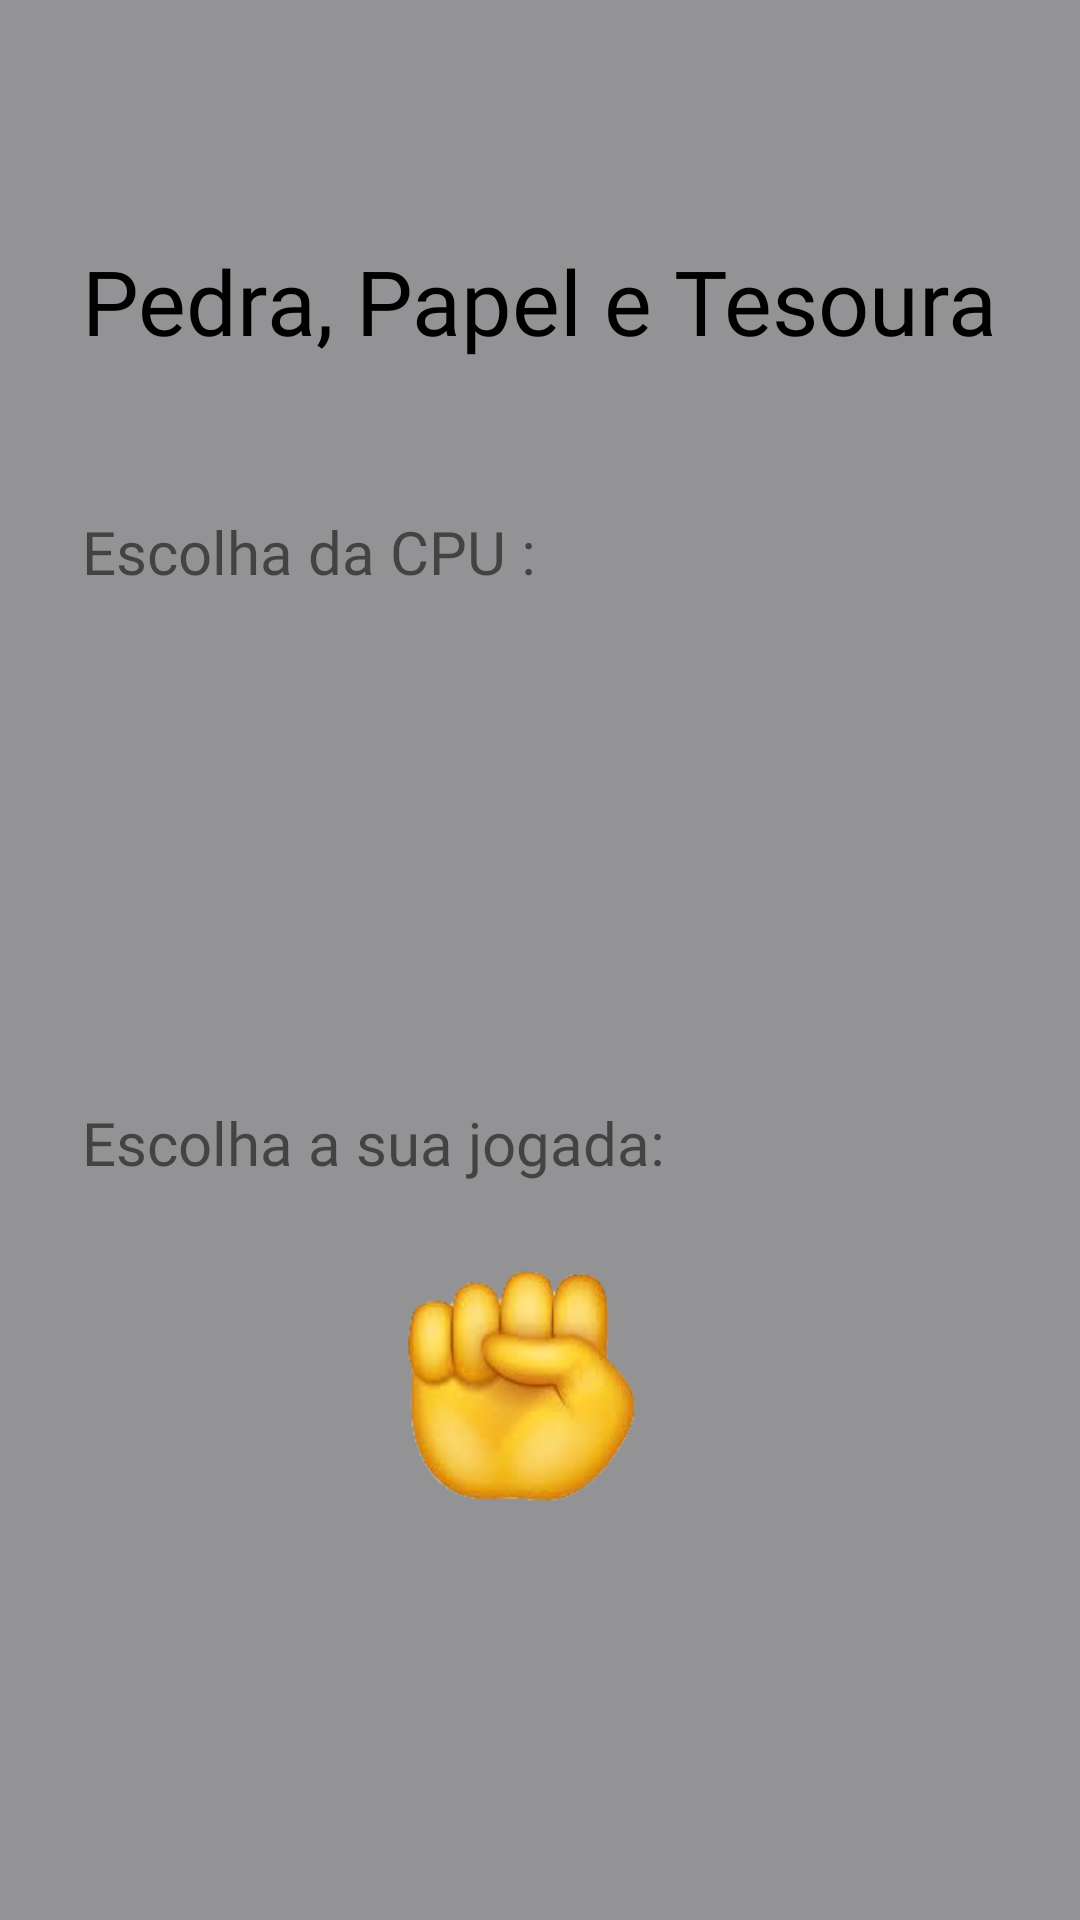

Icon click points for this 1080px×1920px phone screenshot, format (x,y):
pedra: (521,1386)
